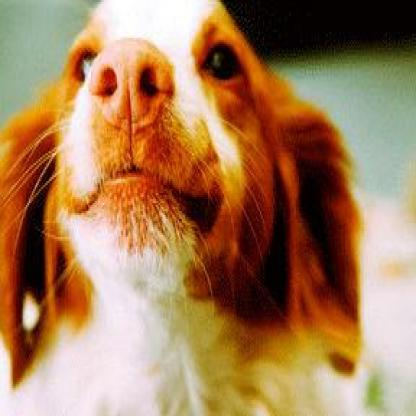Brittany_spaniel: (0, 0, 365, 412)
